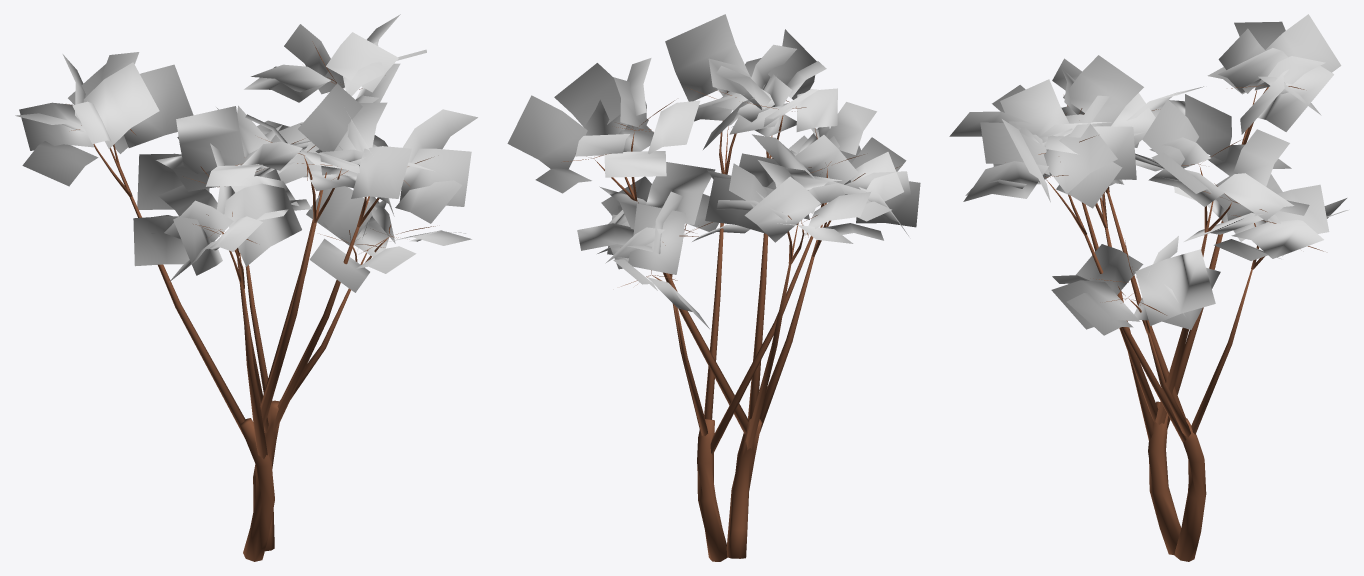
Rendered from V7_Arbousier_2_Niveau2.fbx.
The picture shows the model from 3 angles, left to right: view 1: azimuth 30°, elevation 25°; view 2: azimuth 150°, elevation 25°; view 3: azimuth 270°, elevation 25°; orthographic projection. The views are drawn at different scales.
Parts seen in each view (by area): view 1: V7_Arbousier_2_Detail2; view 2: V7_Arbousier_2_Detail2; view 3: V7_Arbousier_2_Detail2.
Boxes of the visible parts, x1,y1,x2,y2 form: V7_Arbousier_2_Detail2: (15,14,477,561); V7_Arbousier_2_Detail2: (507,14,920,561); V7_Arbousier_2_Detail2: (949,14,1348,561).
Bounding box in the file's own units: 341 × 437 × 318.
